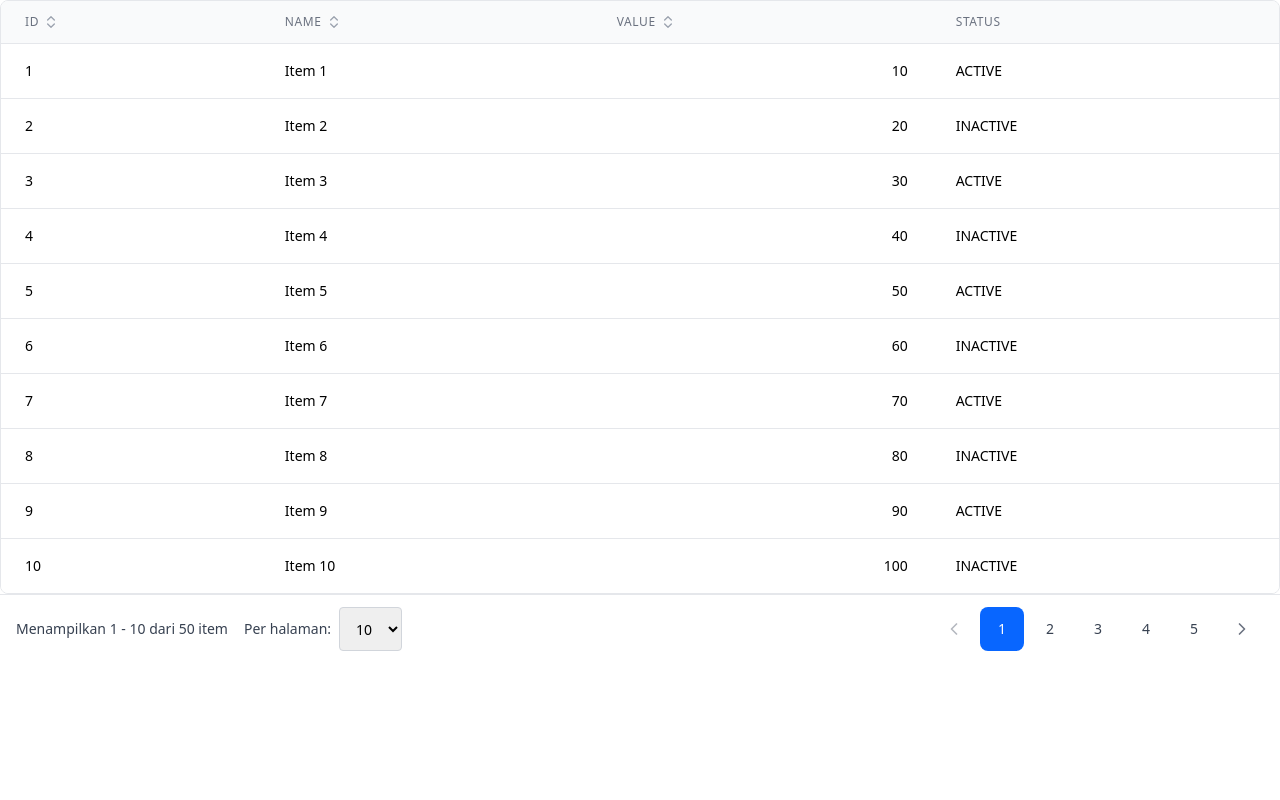
Test case: PaginatedDataTable › changes page size when selector changed
Select "25" in the dropdown labelled "Per halaman:" at (371, 629), box [339,607,402,651]
(page scrolled)
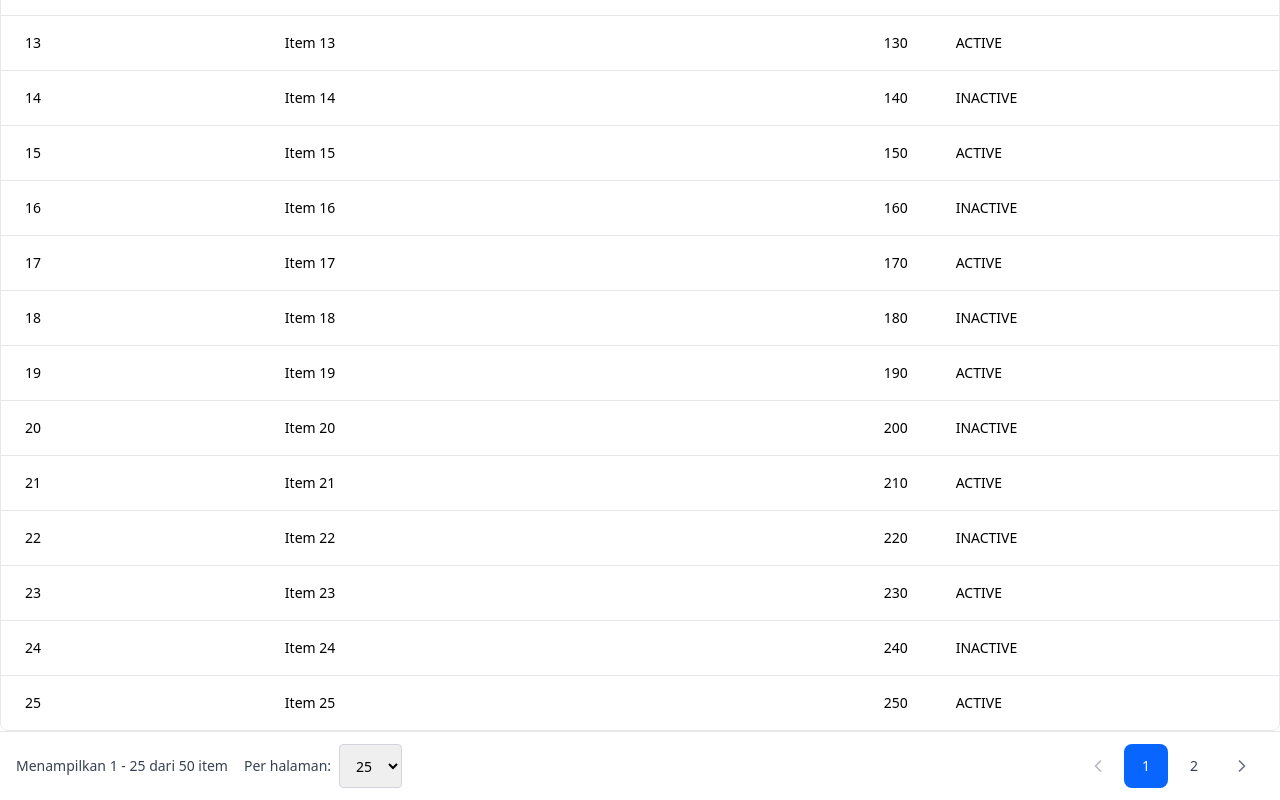
Result: the text "Item 25" is shown at [261,676,593,730]
